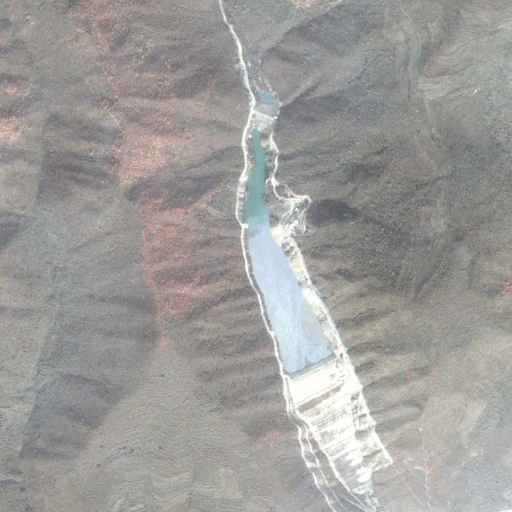tp: (243, 123, 376, 496)
